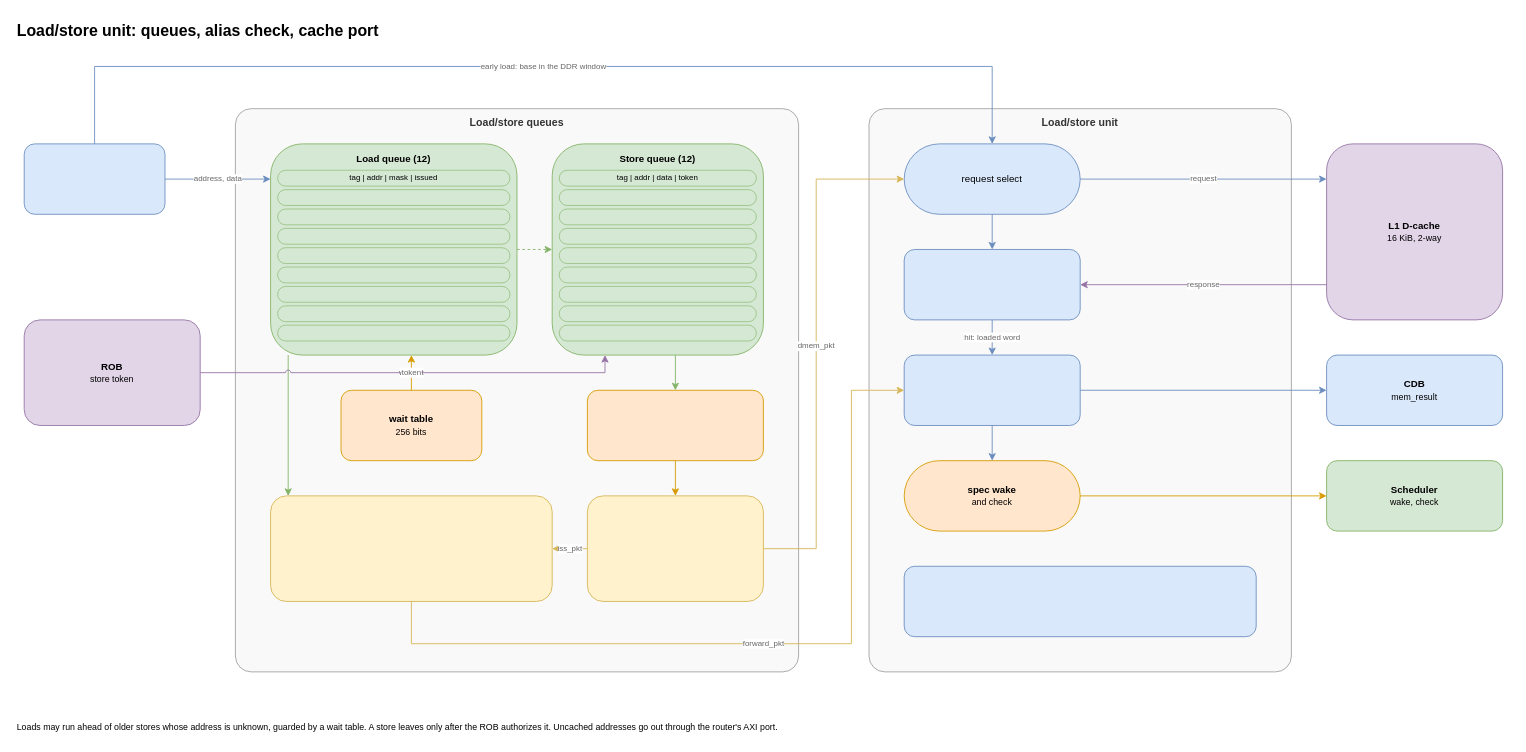
Image size: 1526x752. Some labels were removed from this diagram. The shapes that lost their labels are listed below. From the top down, each one's centre as x and y in pixels, then its label:
At point 94,178: "AGU base + offset".
At point 991,284: "pending one in flight".
At point 991,389: "result register plus hold slot".
At point 675,425: "store pick oldest authorized".
At point 411,548: "Alias check older stores: forward, bounce or go to the cache".
At point 675,548: "Issue register one memory op".
At point 1079,601: "AMO sequencer see the A extension".
